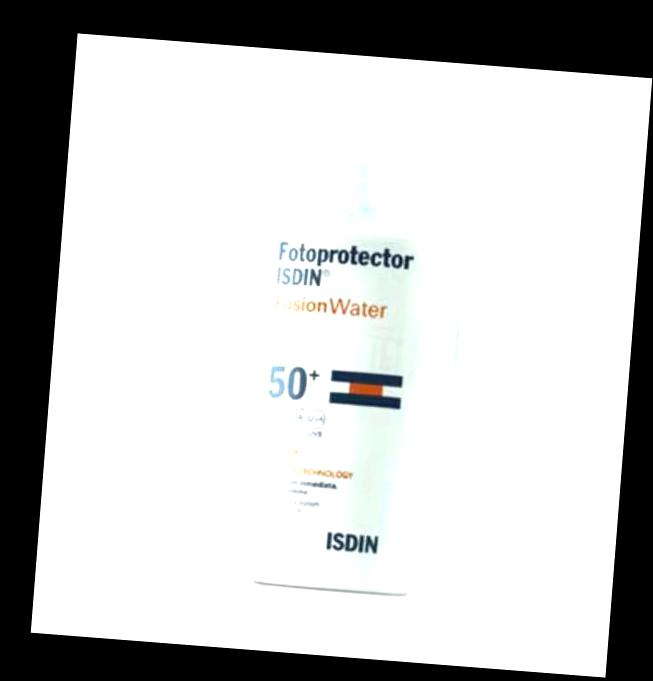cosmetic: (233, 106, 465, 600)
